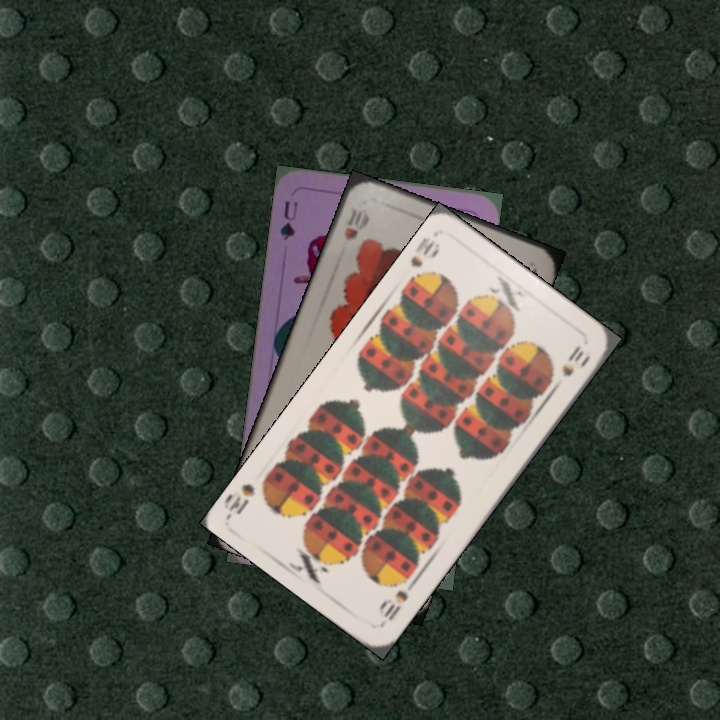GU: (276, 197, 301, 244)
H10: (340, 203, 371, 243)
S10: (404, 232, 443, 286), (377, 586, 411, 624)
